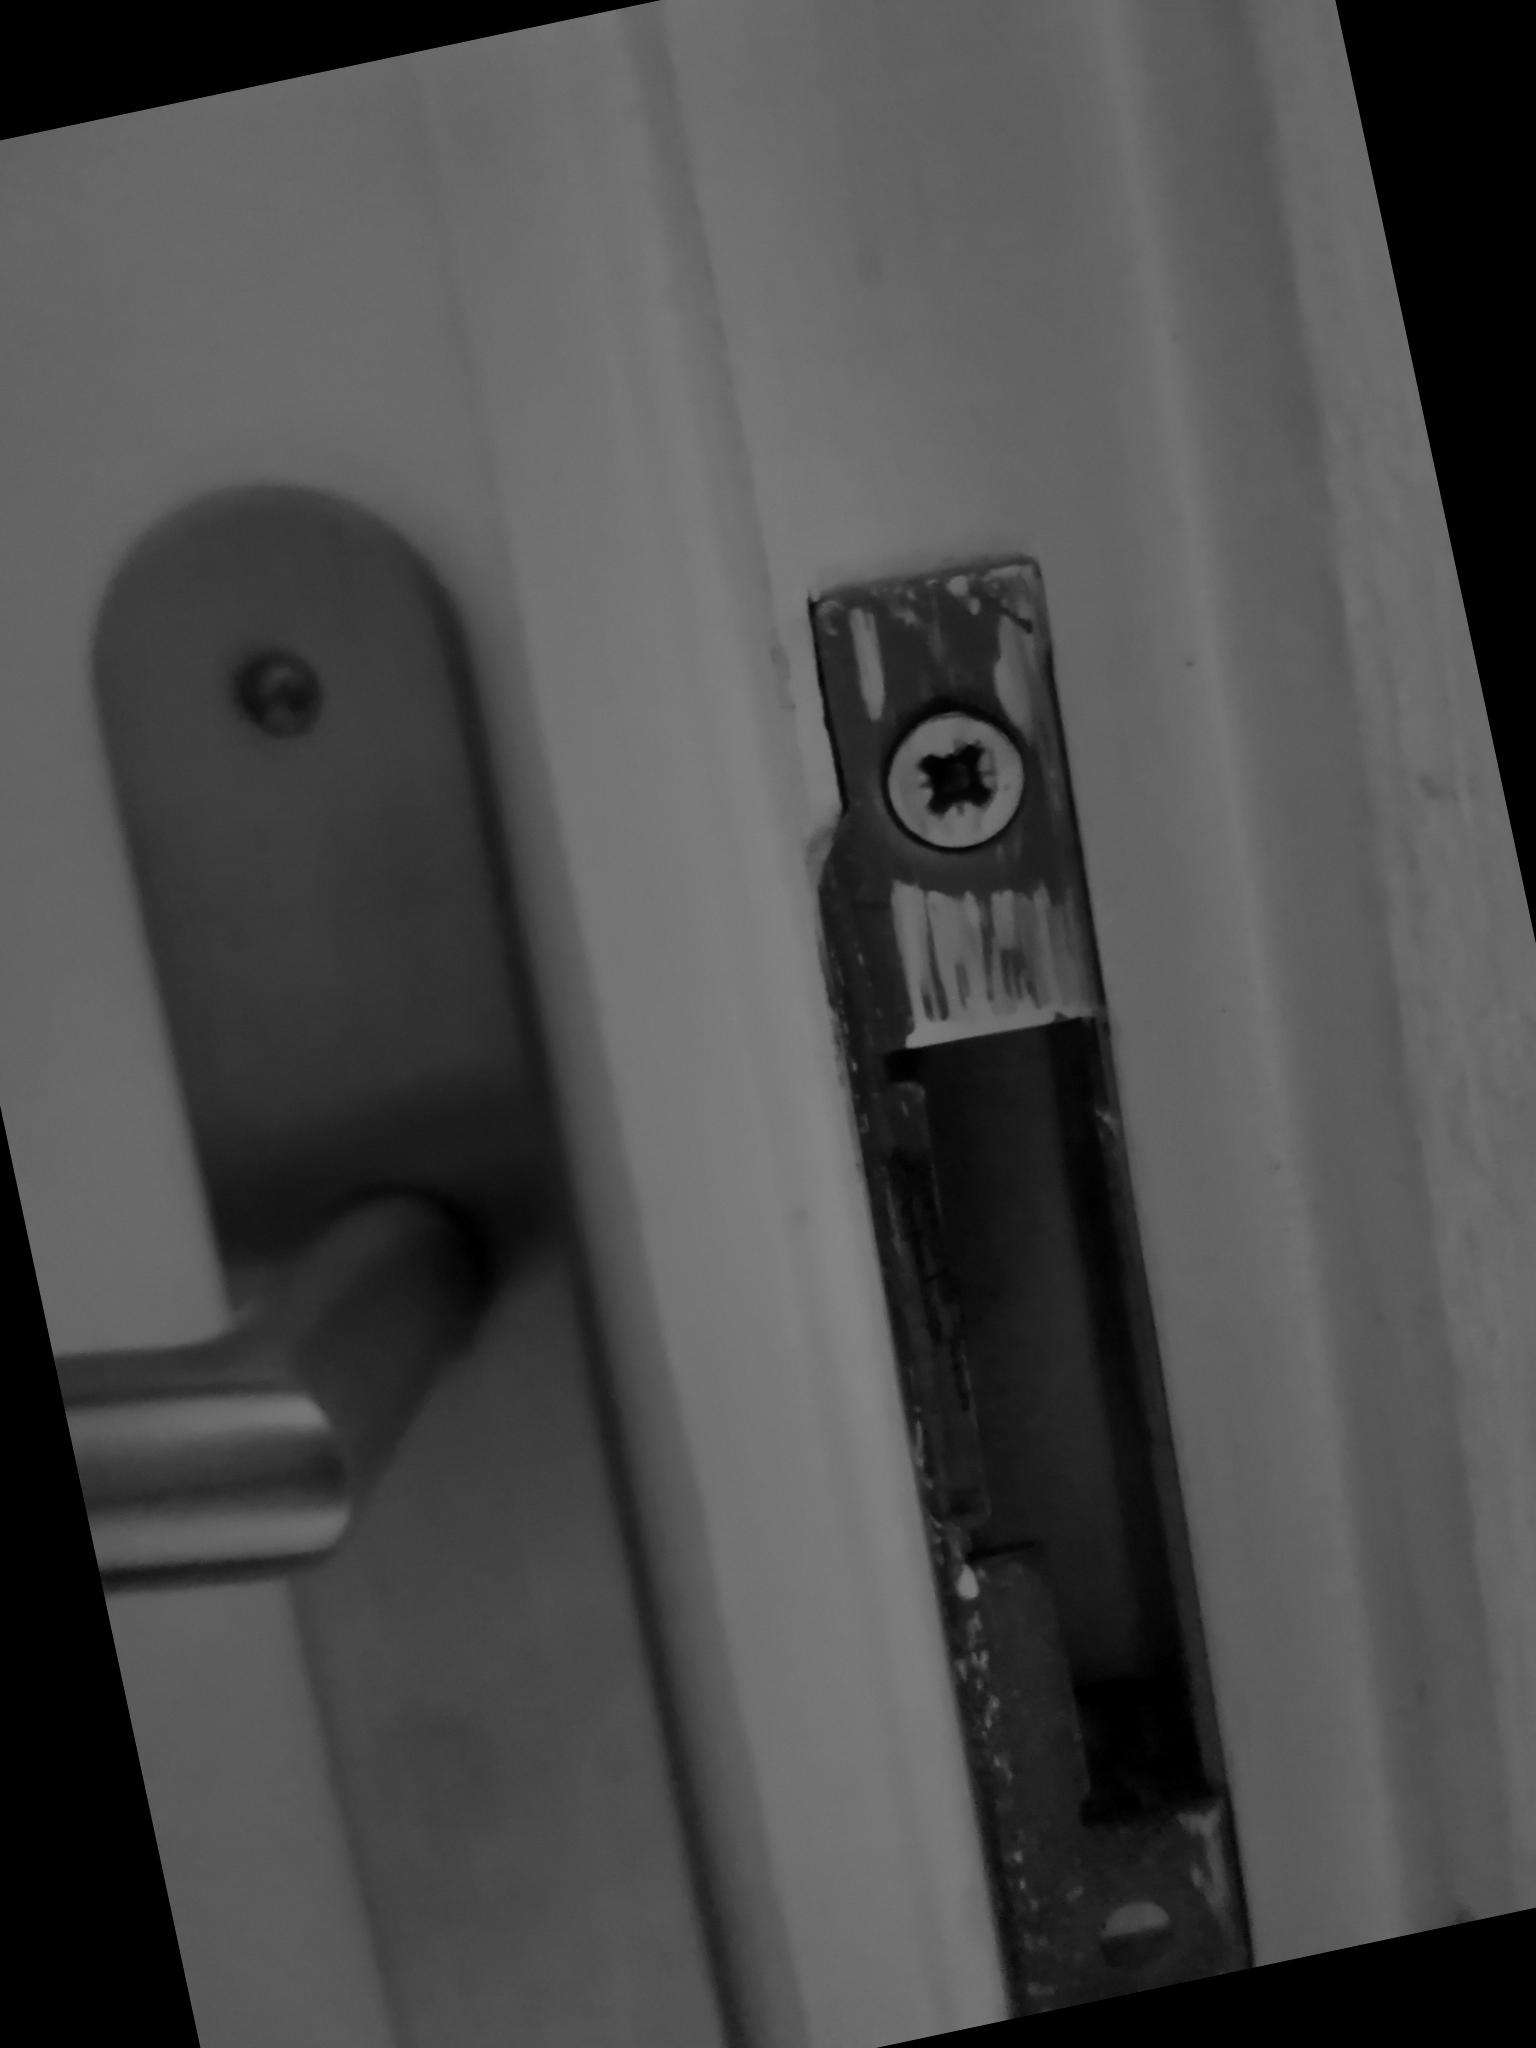screw: (845, 681, 1070, 897)
